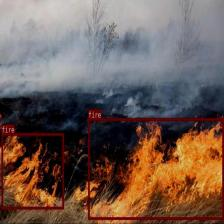fire: (88, 118, 224, 220), (1, 132, 64, 209)
